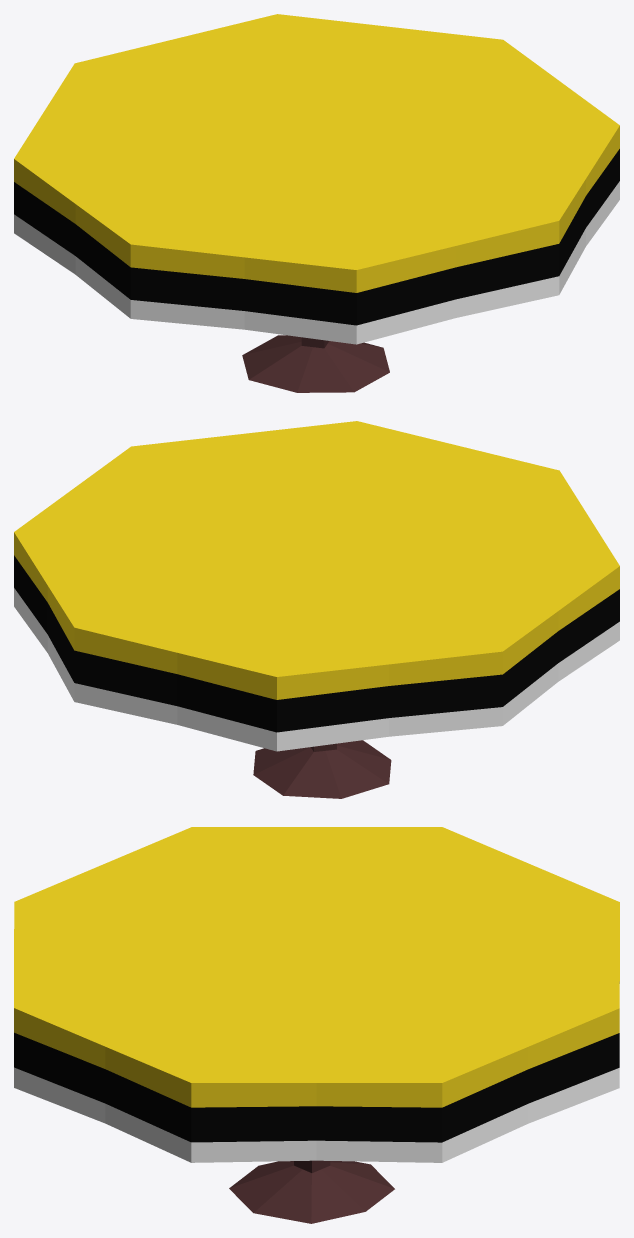
The model's file is Table yellow.fbx.
The picture shows the model from 3 angles, top to bottom: view 1: azimuth 30°, elevation 25°; view 2: azimuth 150°, elevation 25°; view 3: azimuth 270°, elevation 25°; orthographic projection. The views are drawn at different scales.
Parts seen in each view (by area): view 1: Cube.007, Cube.006; view 2: Cube.007, Cube.006; view 3: Cube.007, Cube.006.
Boxes of the visible parts, x1=… form: Cube.007: x1=14, y1=14, x2=619, y2=344; Cube.006: x1=242, y1=335, x2=389, y2=392; Cube.007: x1=14, y1=421, x2=619, y2=751; Cube.006: x1=253, y1=740, x2=391, y2=798; Cube.007: x1=14, y1=827, x2=619, y2=1162; Cube.006: x1=229, y1=1160, x2=394, y2=1223.
Size of the model in its own units: 412 by 177 by 412.
